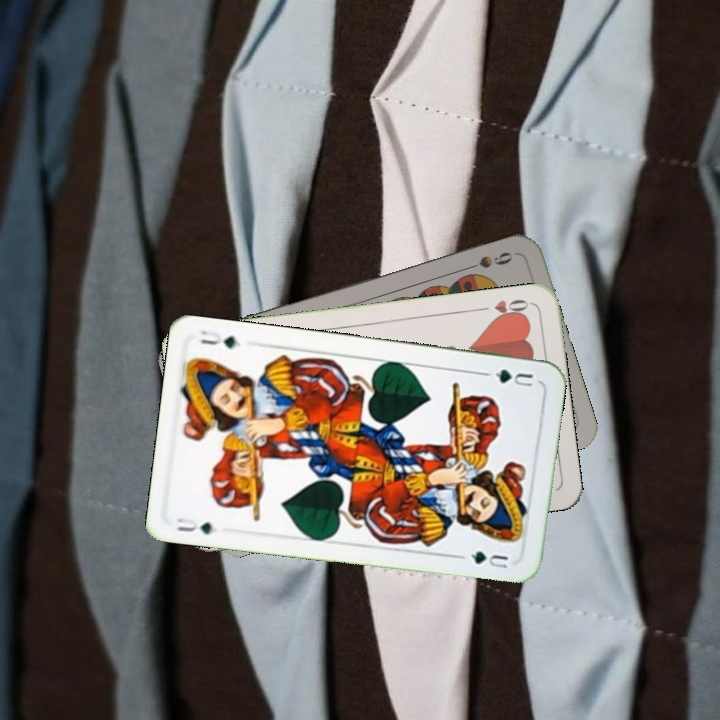GU: (491, 365, 535, 390), (172, 513, 216, 537)
HO: (474, 295, 533, 322)
S9: (458, 247, 515, 274)
